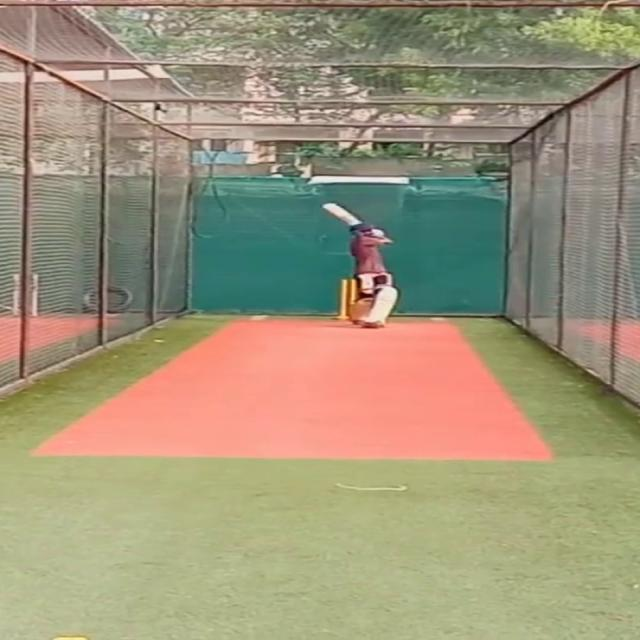stump: (337, 277, 358, 320)
